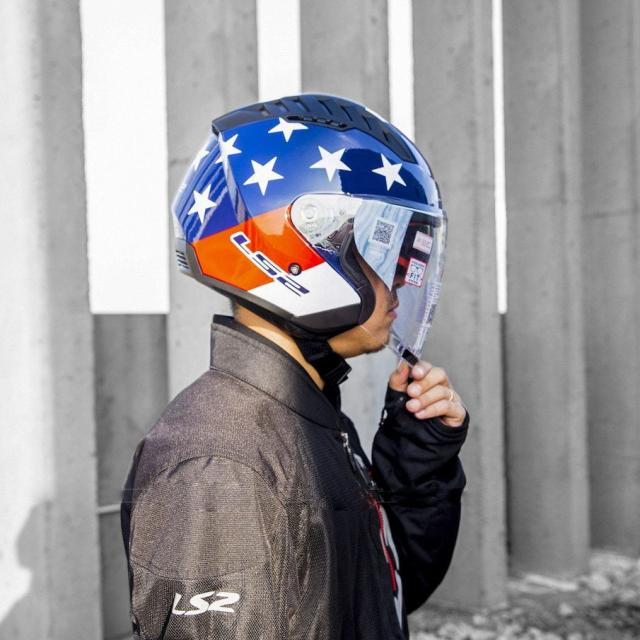Helmet: (166, 81, 453, 377)
